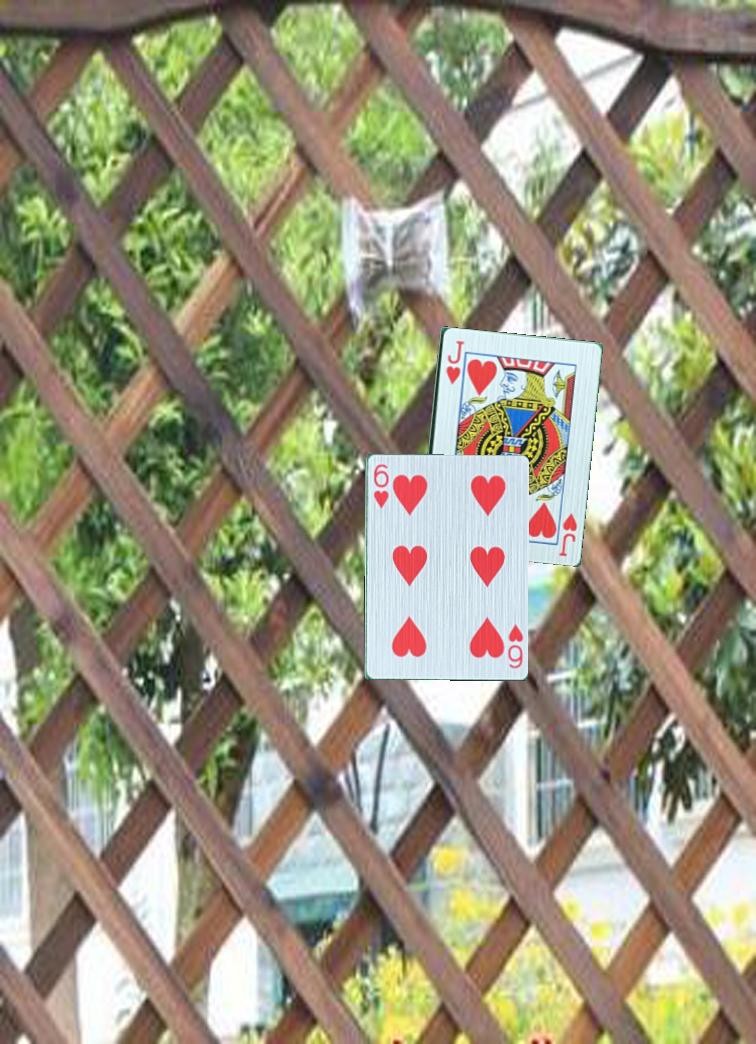6h: (503, 620, 526, 671), (370, 460, 391, 511)
jh: (555, 509, 580, 559), (442, 336, 464, 387)
